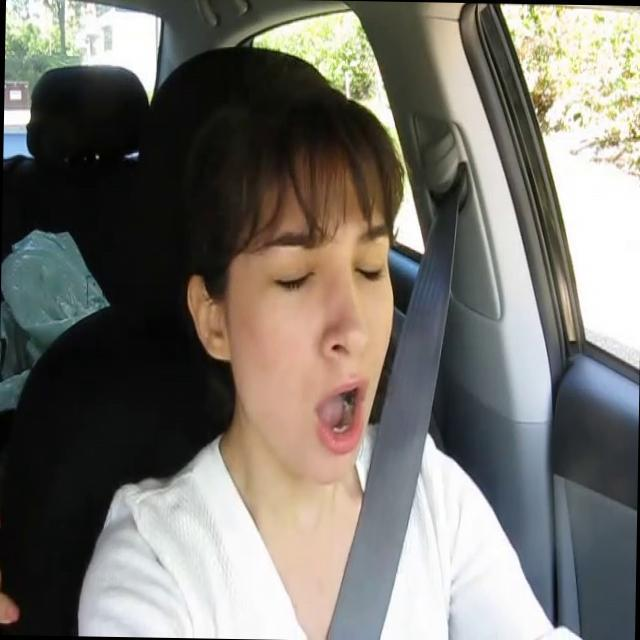open-mouth: (313, 380, 367, 452)
